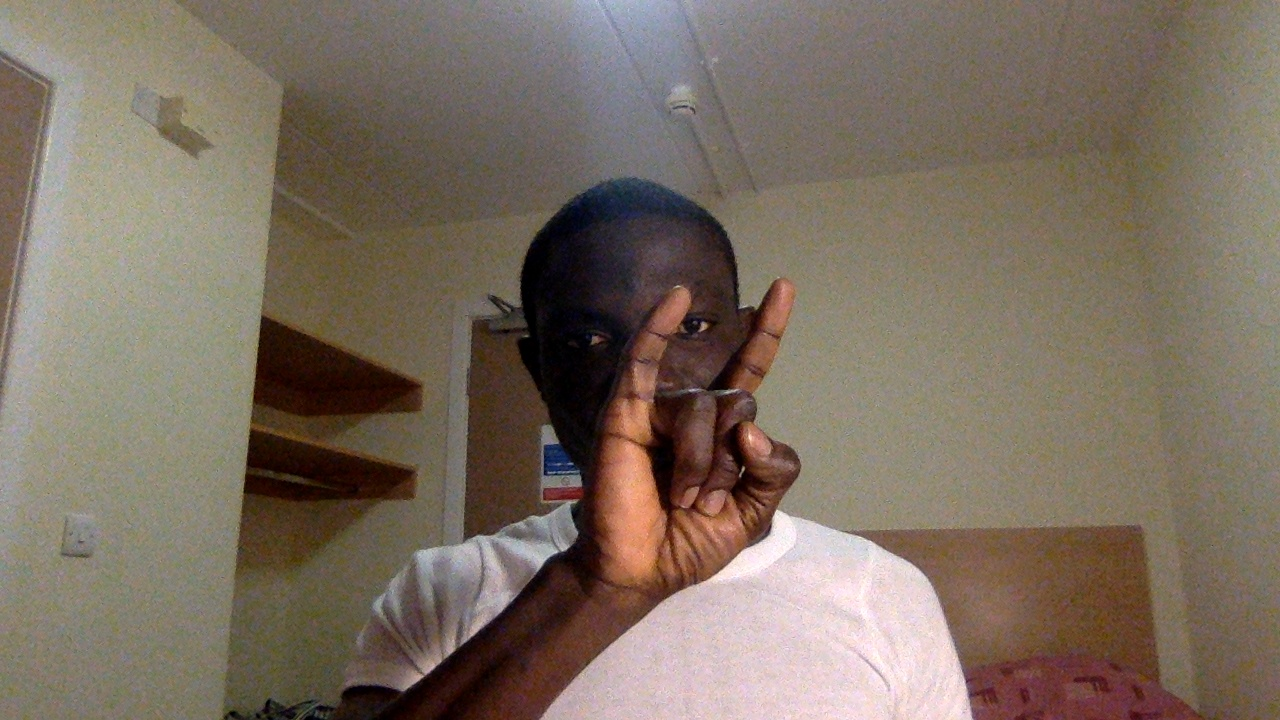I Love You: (570, 268, 811, 611)
